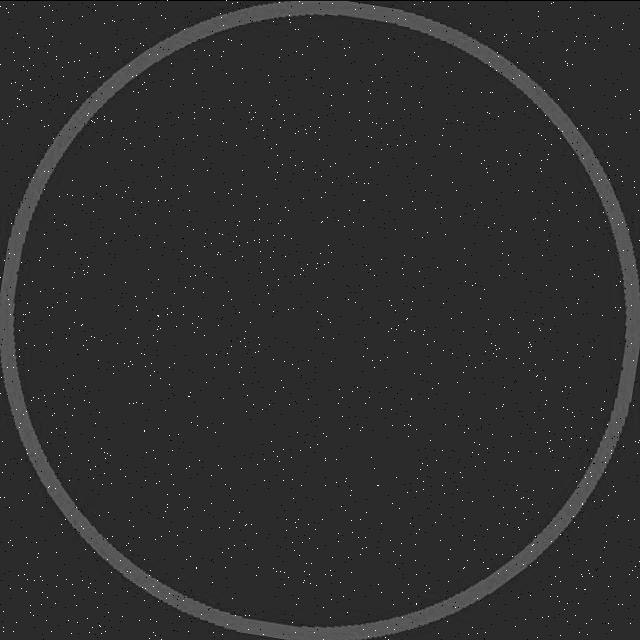Circle: (2, 0, 636, 640)
